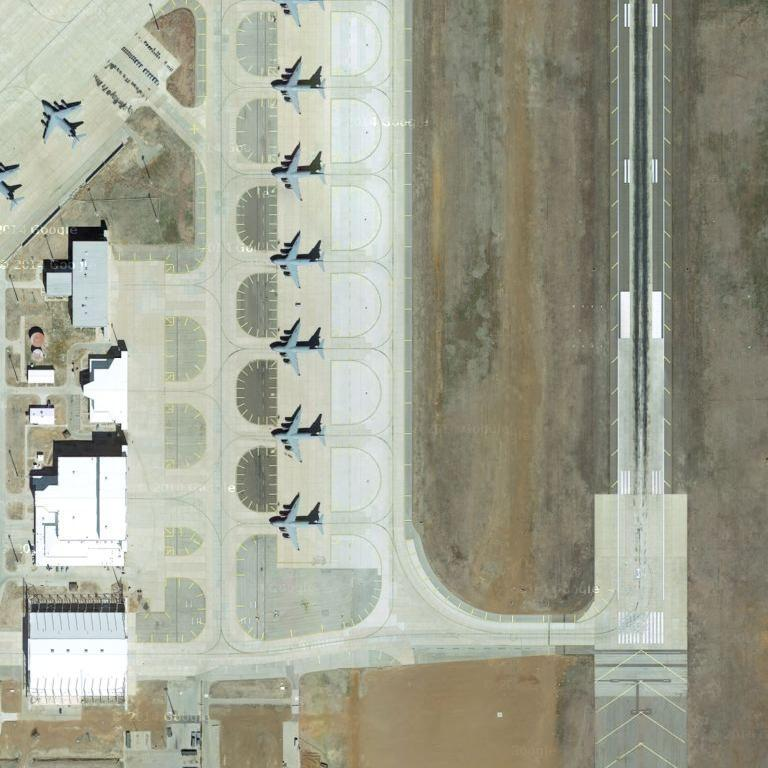C-17: (265, 228, 330, 291), (264, 494, 329, 555), (268, 404, 333, 463), (269, 60, 334, 117), (265, 319, 332, 374), (268, 144, 331, 201), (33, 97, 93, 148)
